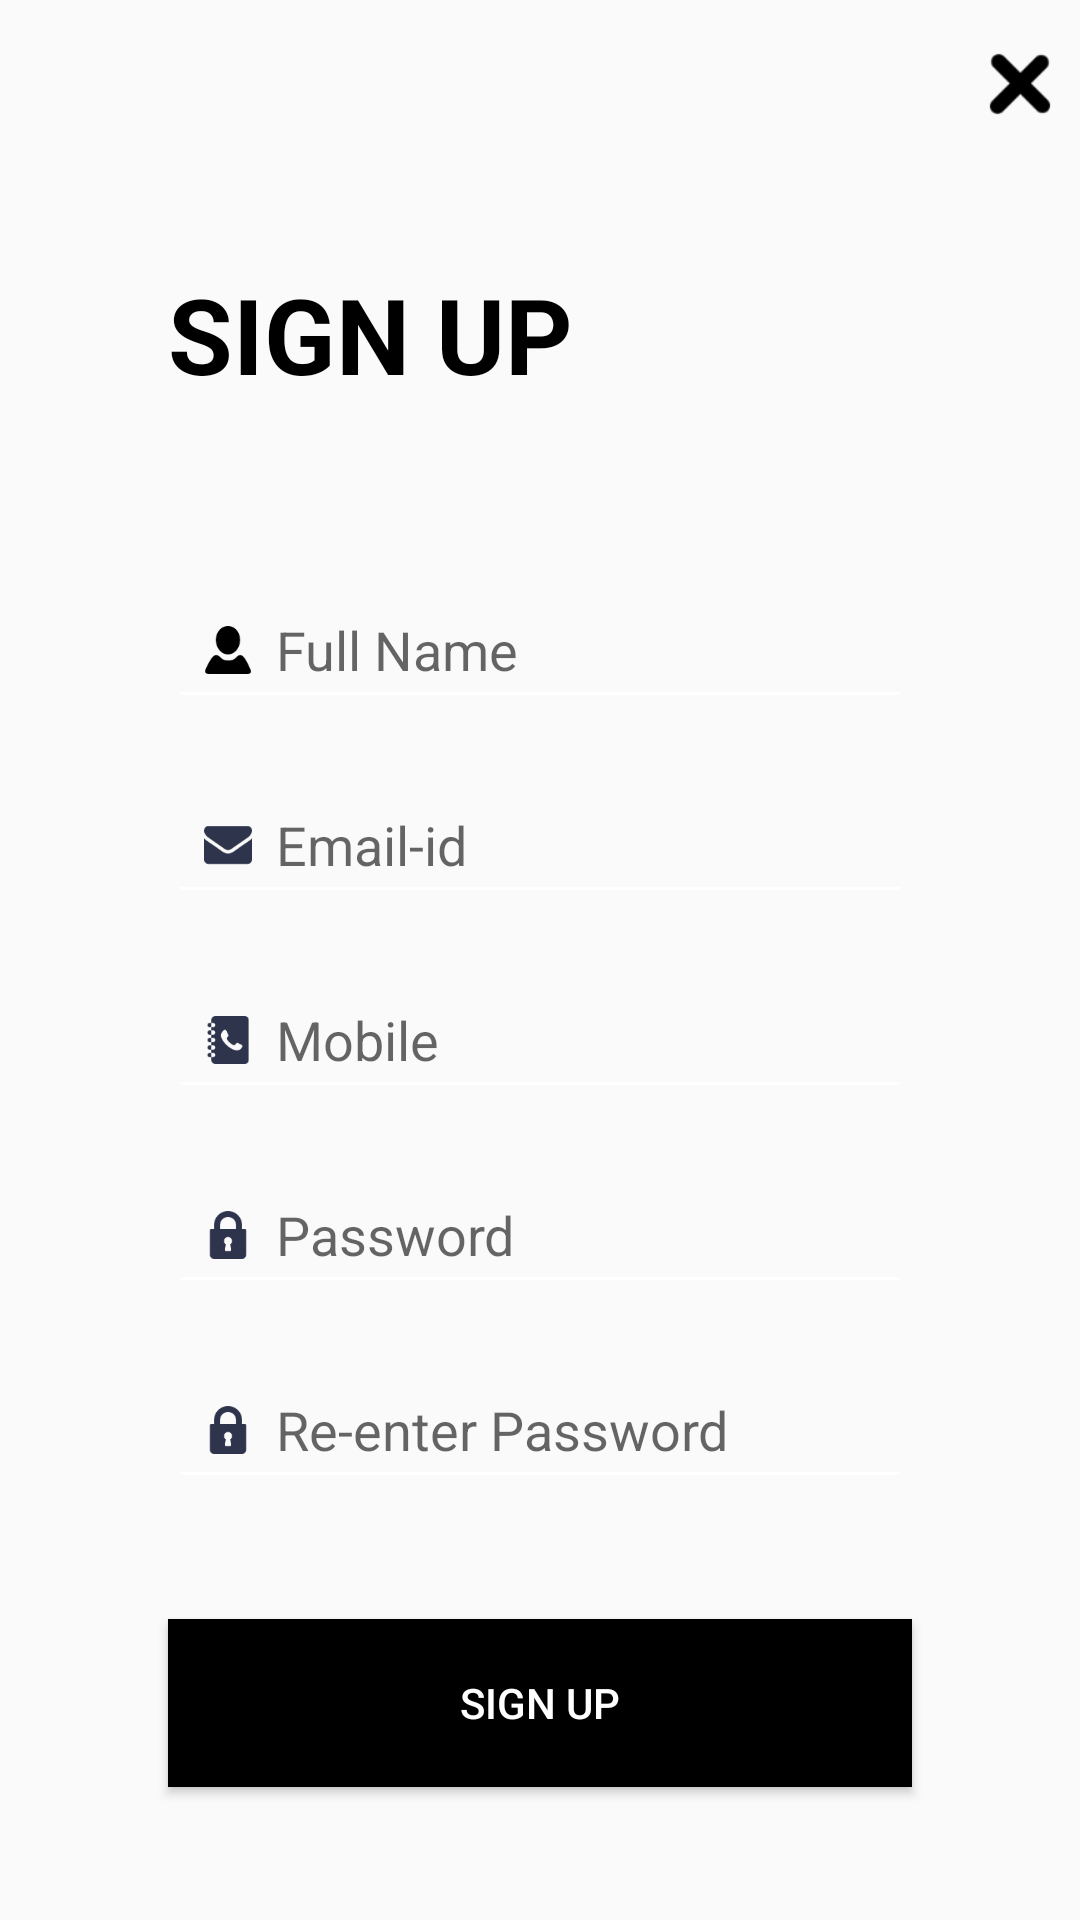

Named icons in this screenshot (1080px x 1920px) and their bounding boxes, (x1, y1, x2, y2):
cancel: (990, 54, 1050, 114)
